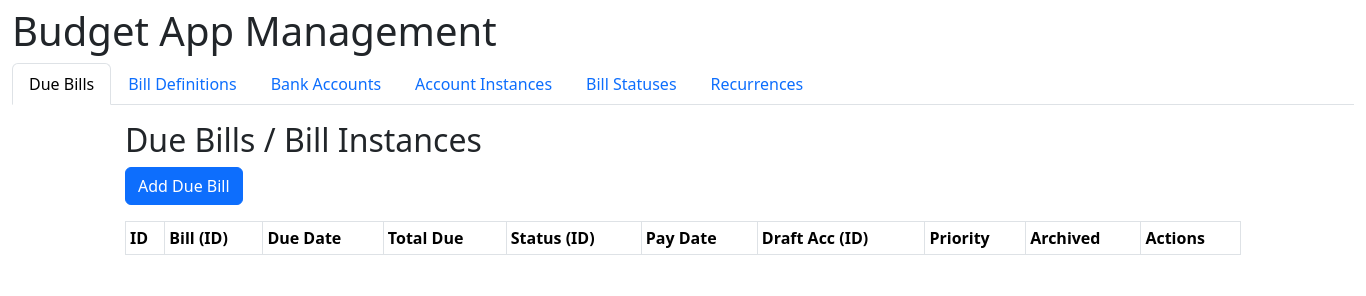
Test case: App Component Tabs Functionality › should switch to "Bank Accounts" tab and render its content when clicked
The width and height of the screenshot is (1366, 296).
Click the tab "Bank Accounts" at {"x": 327, "y": 84}, box [254,63,399,105]
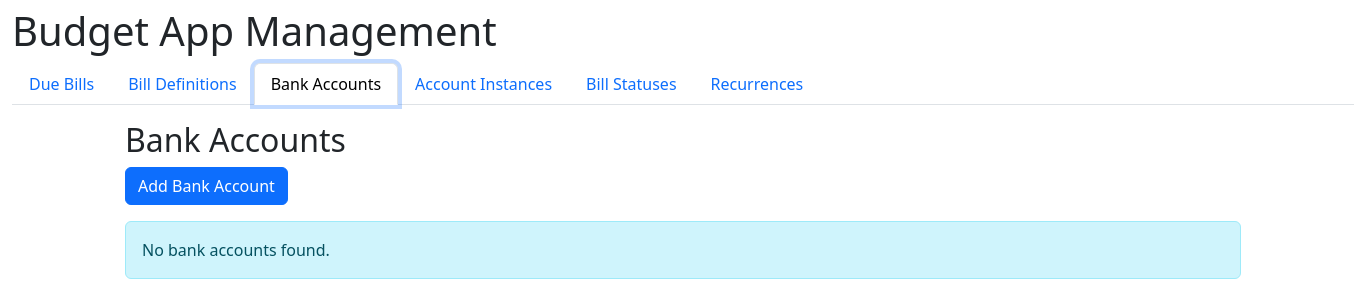
expect the heading "Bank Accounts" is shown: met, box [125,118,346,161]
expect the heading with test id "due-bills-heading" is gone: met
